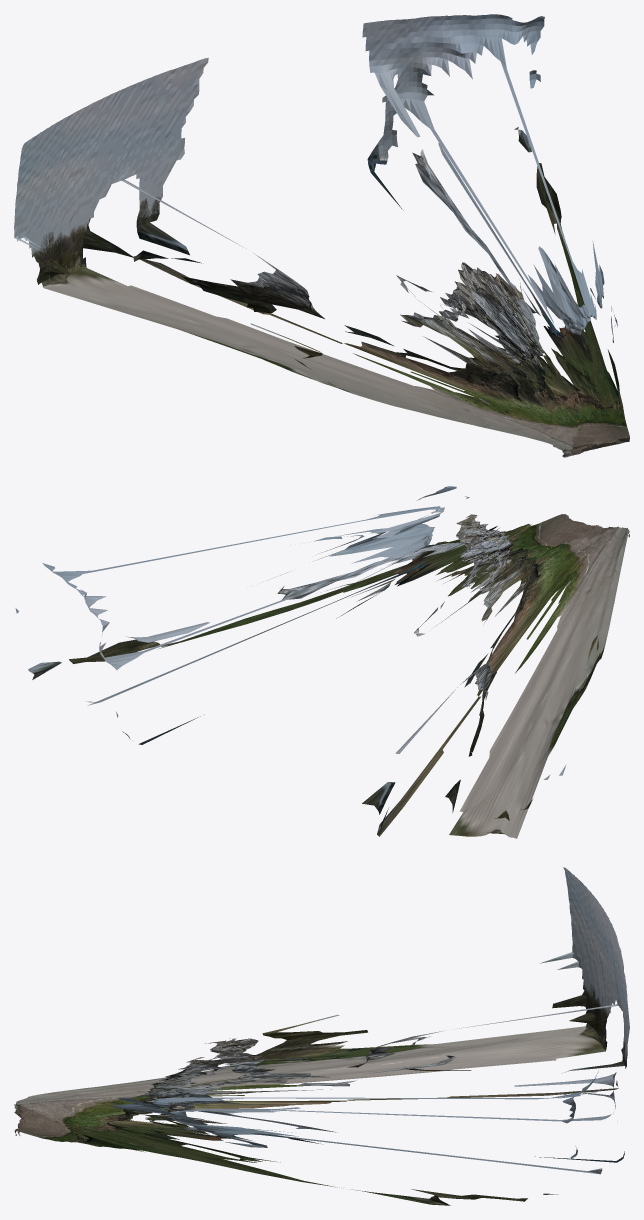
The picture shows the model from 3 angles, top to bottom: view 1: azimuth 30°, elevation 25°; view 2: azimuth 150°, elevation 25°; view 3: azimuth 270°, elevation 25°; orthographic projection. The views are drawn at different scales.
Visible parts, largest first — view 1: defaultobject; view 2: defaultobject; view 3: defaultobject.
Boxes of the visible parts, box(x1,y1,x2,y2) form: defaultobject: box(14, 14, 629, 457); defaultobject: box(15, 486, 629, 838); defaultobject: box(14, 867, 629, 1205).
Bounding box in the file's own units: 39.53 × 13.11 × 44.07.
Materials: 1 (1 with a texture image).
